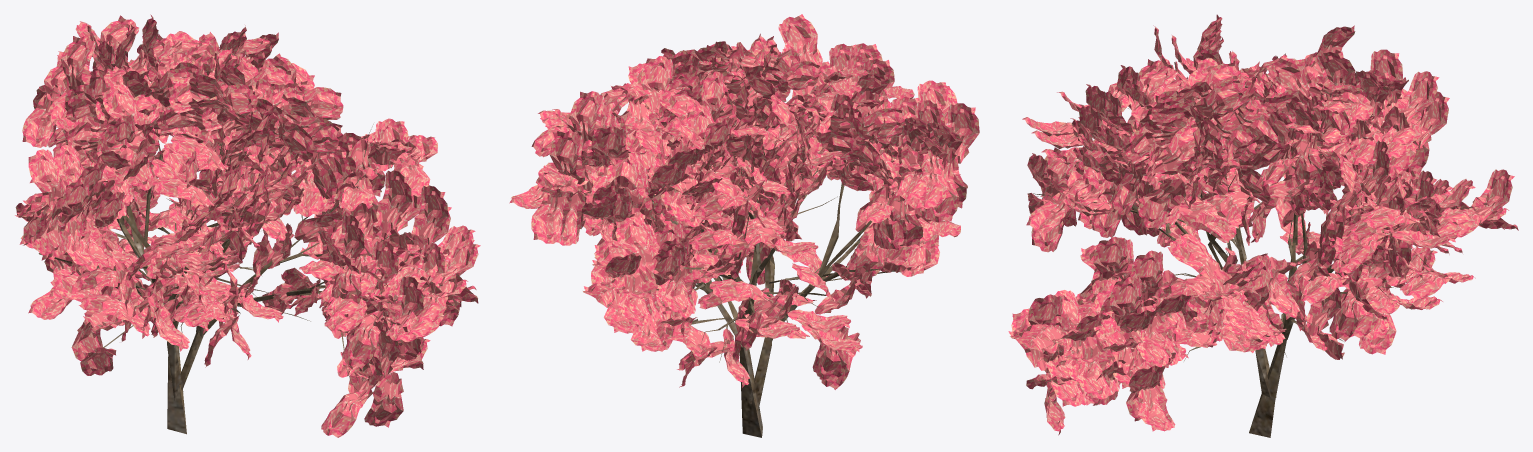
The model's file is cherry tree.fbx.
The picture shows the model from 3 angles, left to right: view 1: azimuth 30°, elevation 25°; view 2: azimuth 150°, elevation 25°; view 3: azimuth 270°, elevation 25°; orthographic projection.
Visible parts, largest first — view 1: tree.001, tree.001|cherry blossom leaves|Dupli|368, tree.001|cherry blossom leaves|Dupli|241, tree.001|cherry blossom leaves|Dupli|613, tree.001|cherry blossom leaves|Dupli|271, tree.001|cherry blossom leaves|Dupli|115, tree.001|cherry blossom leaves|Dupli|596, tree.001|cherry blossom leaves|Dupli|457, tree.001|cherry blossom leaves|Dupli|142, tree.001|cherry blossom leaves|Dupli|491, tree.001|cherry blossom leaves|Dupli|609, tree.001|cherry blossom leaves|Dupli|604 (+80 smaller); view 2: tree.001, tree.001|cherry blossom leaves|Dupli|451, tree.001|cherry blossom leaves|Dupli|575, tree.001|cherry blossom leaves|Dupli|518, tree.001|cherry blossom leaves|Dupli|577, tree.001|cherry blossom leaves|Dupli|589, tree.001|cherry blossom leaves|Dupli|565, tree.001|cherry blossom leaves|Dupli|157, tree.001|cherry blossom leaves|Dupli|231, tree.001|cherry blossom leaves|Dupli|53, tree.001|cherry blossom leaves|Dupli|88, tree.001|cherry blossom leaves|Dupli|201 (+73 smaller); view 3: tree.001, tree.001|cherry blossom leaves|Dupli|616, tree.001|cherry blossom leaves|Dupli|572, tree.001|cherry blossom leaves|Dupli|131, tree.001|cherry blossom leaves|Dupli|416, tree.001|cherry blossom leaves|Dupli|507, tree.001|cherry blossom leaves|Dupli|582, tree.001|cherry blossom leaves|Dupli|579, tree.001|cherry blossom leaves|Dupli|220, tree.001|cherry blossom leaves|Dupli|217, tree.001|cherry blossom leaves|Dupli|613, tree.001|cherry blossom leaves|Dupli|98 (+76 smaller).
Part boxes in pixels (x1,y1,x2,y2): tree.001: (38, 59, 439, 434); tree.001|cherry blossom leaves|Dupli|368: (376, 170, 412, 233); tree.001|cherry blossom leaves|Dupli|241: (364, 372, 403, 427); tree.001|cherry blossom leaves|Dupli|613: (412, 185, 448, 247); tree.001|cherry blossom leaves|Dupli|271: (342, 310, 385, 368); tree.001|cherry blossom leaves|Dupli|115: (60, 36, 95, 92); tree.001|cherry blossom leaves|Dupli|596: (28, 149, 64, 209); tree.001|cherry blossom leaves|Dupli|457: (22, 87, 61, 147); tree.001|cherry blossom leaves|Dupli|142: (321, 389, 368, 437); tree.001|cherry blossom leaves|Dupli|491: (430, 239, 480, 283); tree.001|cherry blossom leaves|Dupli|609: (387, 276, 423, 327); tree.001|cherry blossom leaves|Dupli|604: (102, 84, 146, 133); tree.001: (580, 72, 903, 437); tree.001|cherry blossom leaves|Dupli|451: (531, 184, 571, 243); tree.001|cherry blossom leaves|Dupli|575: (615, 216, 658, 272); tree.001|cherry blossom leaves|Dupli|518: (778, 14, 819, 65); tree.001|cherry blossom leaves|Dupli|577: (617, 267, 654, 326); tree.001|cherry blossom leaves|Dupli|589: (549, 130, 585, 186); tree.001|cherry blossom leaves|Dupli|565: (569, 91, 604, 142); tree.001|cherry blossom leaves|Dupli|157: (947, 103, 979, 163); tree.001|cherry blossom leaves|Dupli|231: (664, 263, 695, 317); tree.001|cherry blossom leaves|Dupli|53: (812, 326, 848, 382); tree.001|cherry blossom leaves|Dupli|88: (607, 153, 646, 213); tree.001|cherry blossom leaves|Dupli|201: (858, 108, 905, 139); tree.001: (1033, 70, 1482, 437); tree.001|cherry blossom leaves|Dupli|616: (1076, 336, 1112, 399); tree.001|cherry blossom leaves|Dupli|572: (1136, 178, 1185, 228); tree.001|cherry blossom leaves|Dupli|131: (1154, 123, 1205, 174); tree.001|cherry blossom leaves|Dupli|416: (1193, 80, 1249, 119); tree.001|cherry blossom leaves|Dupli|507: (1394, 71, 1439, 125); tree.001|cherry blossom leaves|Dupli|582: (1294, 133, 1323, 195); tree.001|cherry blossom leaves|Dupli|579: (1469, 169, 1514, 223); tree.001|cherry blossom leaves|Dupli|220: (1026, 185, 1078, 232); tree.001|cherry blossom leaves|Dupli|217: (1138, 384, 1175, 431); tree.001|cherry blossom leaves|Dupli|613: (1110, 276, 1141, 326); tree.001|cherry blossom leaves|Dupli|98: (1267, 55, 1311, 98).
Bounding box in the file's own units: 834 × 726 × 868.
